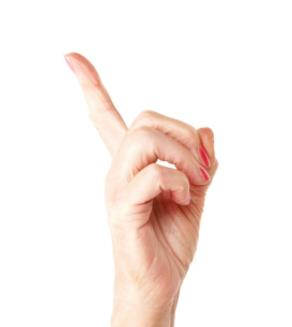up: (56, 43, 220, 286)
